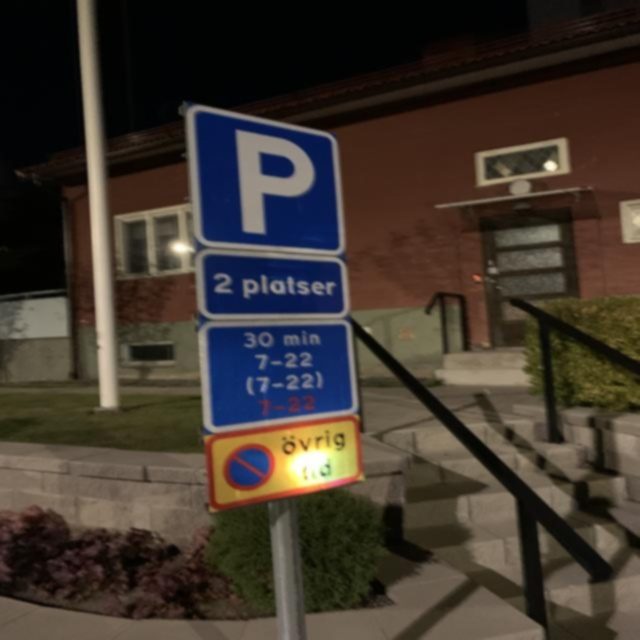P-skylt: (181, 102, 346, 256)
